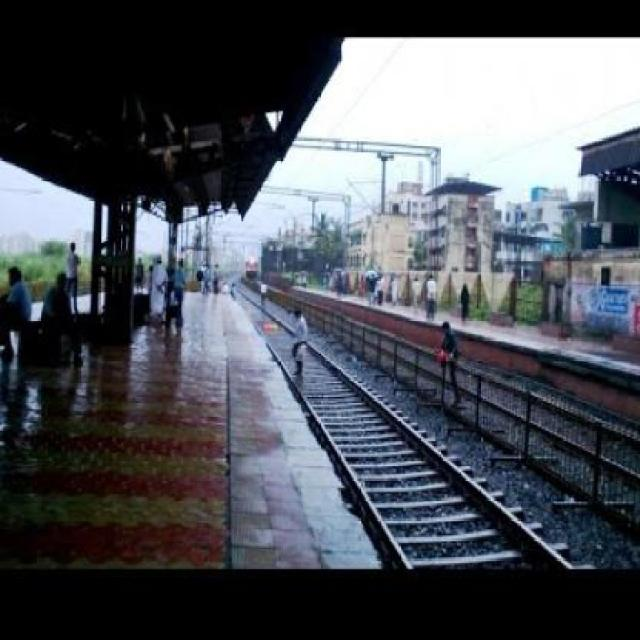obstacle: (437, 316, 465, 409), (287, 298, 311, 382)
